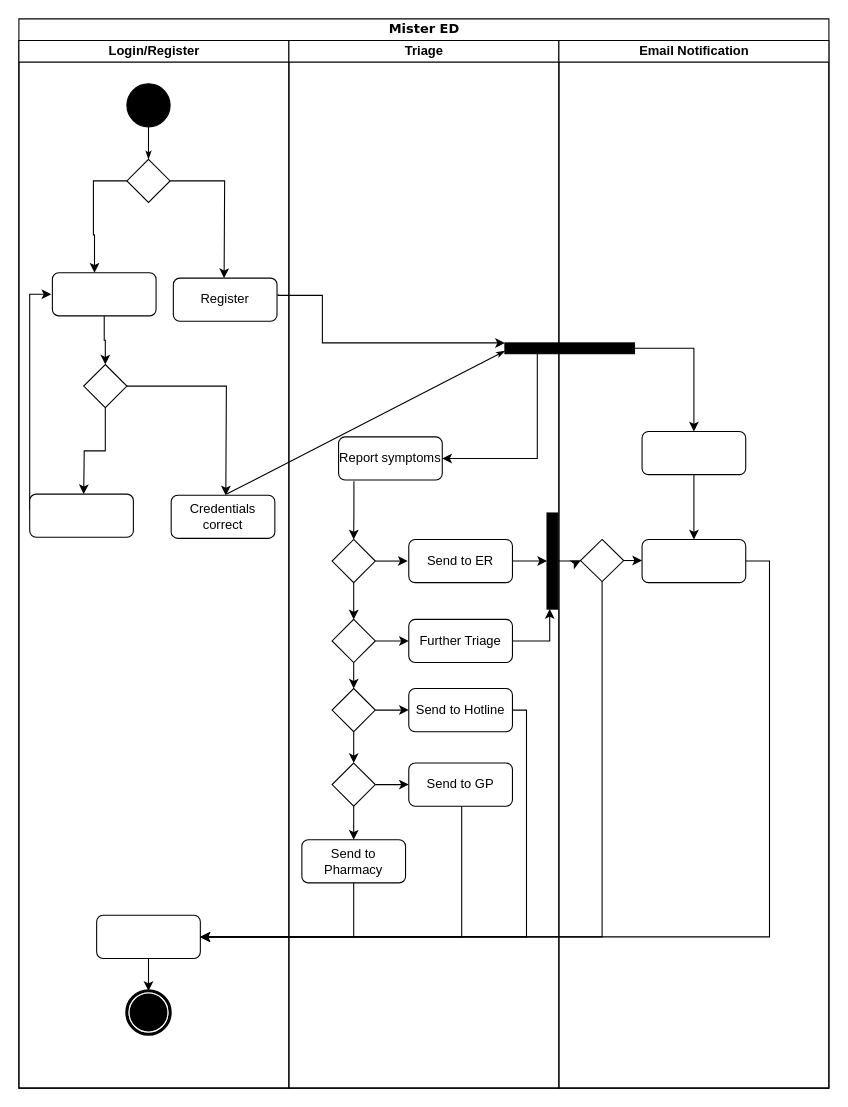
Some shapes in this 848 by 1107 pixel diagram are drawn without their labels. The shapes that lost their labels are listed below. From the top down, each one's centre as x and y in pixels, then its label:
At [103,294]: "Try to Login".
At [693,452]: "Check availability".
At [81,515]: "Credentials incorrect".
At [693,560]: "Send Email Notification".
At [148,936]: "Logout".
